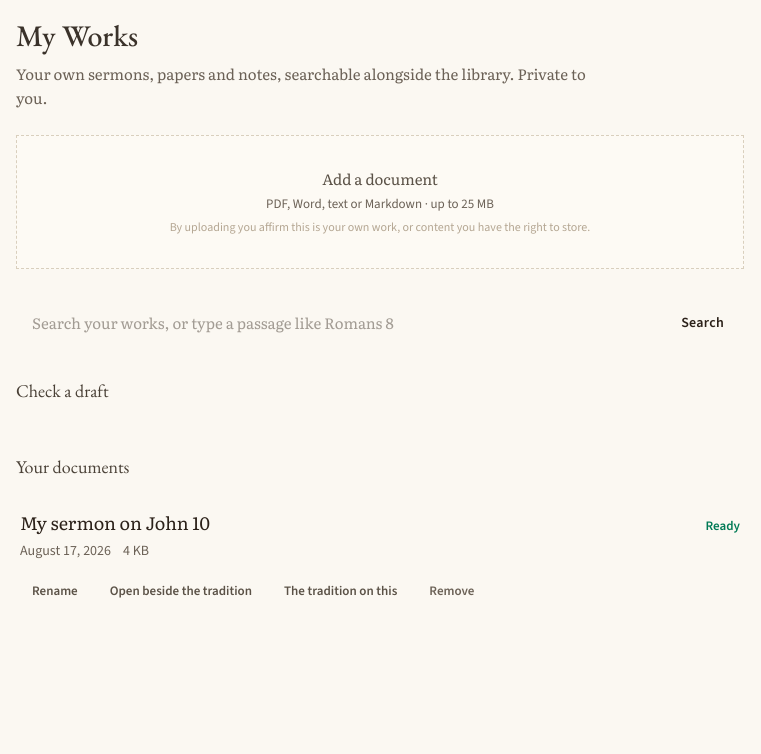
My Works — the draft check › an error envelope ends in a sentence, and the page survives
The width and height of the screenshot is (761, 754).
Expected: the text "My sermon on John 10" is shown, left=20, top=509, right=210, bottom=536
Click the heading "Check a draft" at (62, 390), box left=16, top=379, right=109, bottom=402
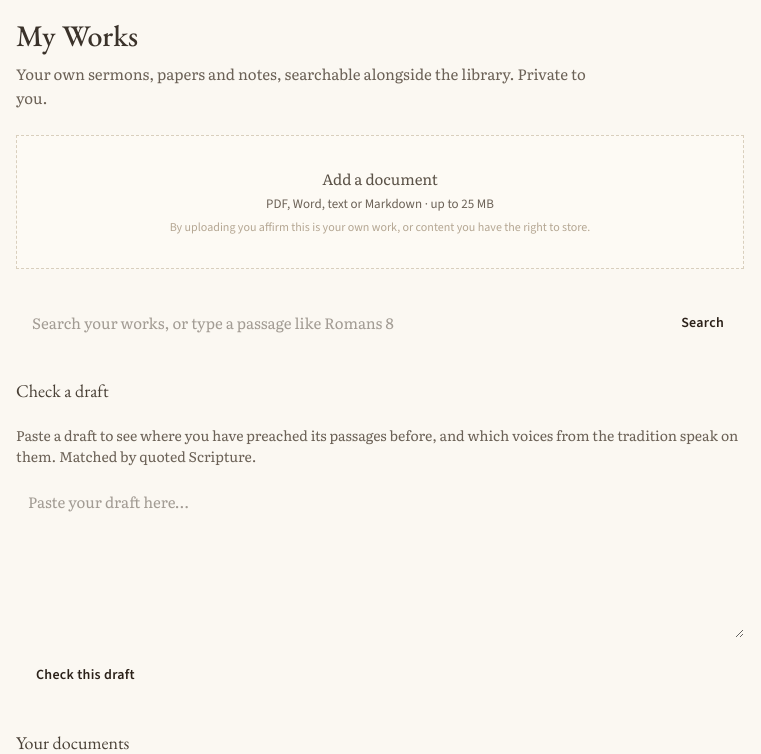
Type "All things work together for good…" into the text box named "Draft to check" at (380, 558), box left=16, top=479, right=744, bottom=638
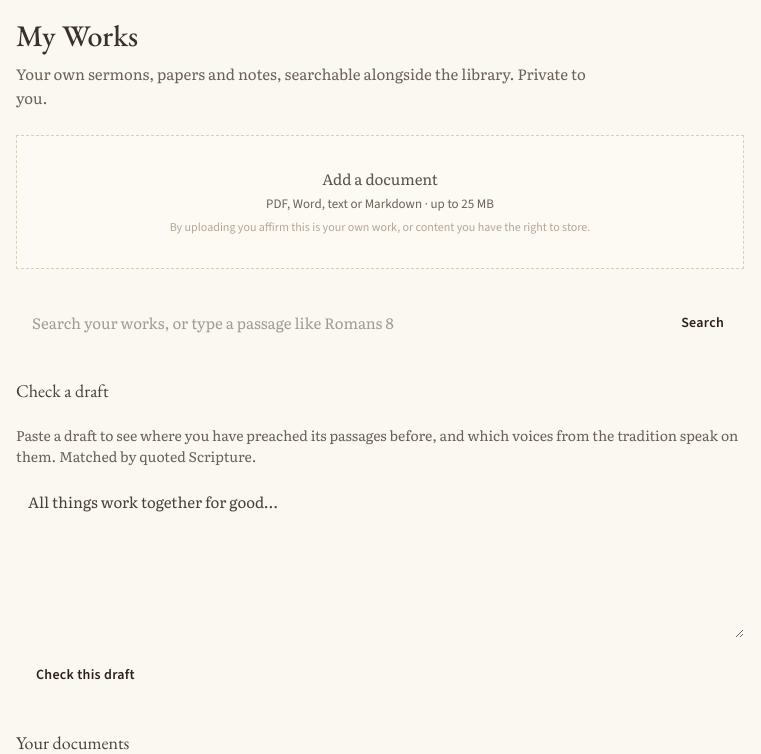
Click the button "Check this draft" at (85, 675), box left=16, top=653, right=155, bottom=697
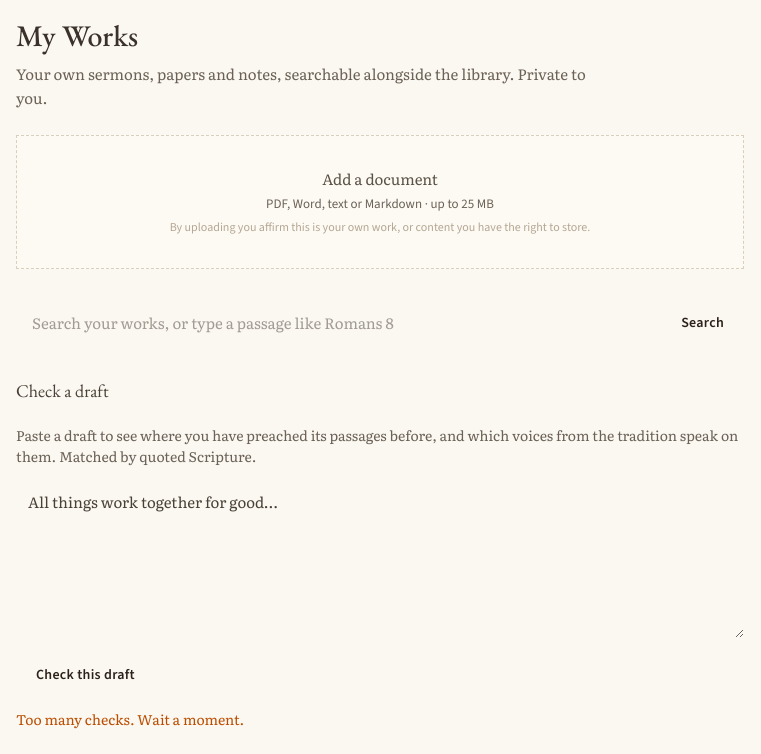
Expected: the heading "My Works" is shown, left=16, top=16, right=138, bottom=55
Expected: the text "Too many checks. Wait a moment." is shown, left=16, top=709, right=244, bottom=729
